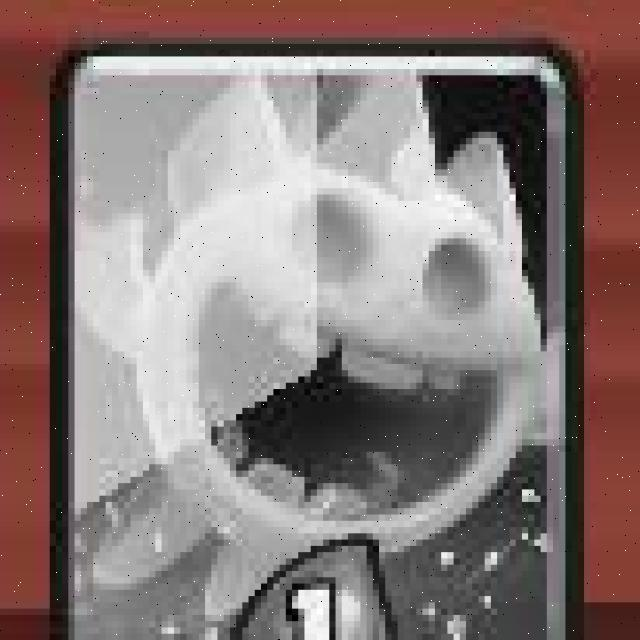Ice_Spirit: (45, 43, 572, 640)
